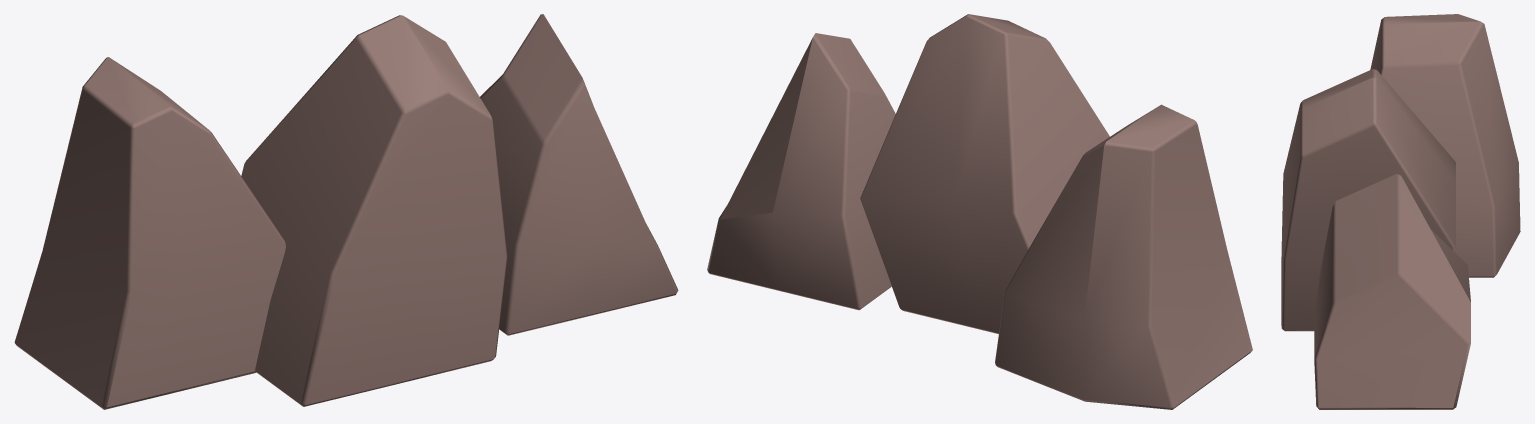
The model's file is Rocks1 1.fbx.
The picture shows the model from 3 angles, left to right: view 1: azimuth 30°, elevation 25°; view 2: azimuth 150°, elevation 25°; view 3: azimuth 270°, elevation 25°; orthographic projection. The views are drawn at different scales.
Parts seen in each view (by area): view 1: pCube26; view 2: pCube26; view 3: pCube26.
Part boxes in pixels (<box>): pCube26: <box>14,14,678,409</box>; pCube26: <box>707,14,1252,409</box>; pCube26: <box>1281,14,1520,409</box>.
Bounding box in the file's own units: 7.06 × 3.82 × 3.41.
